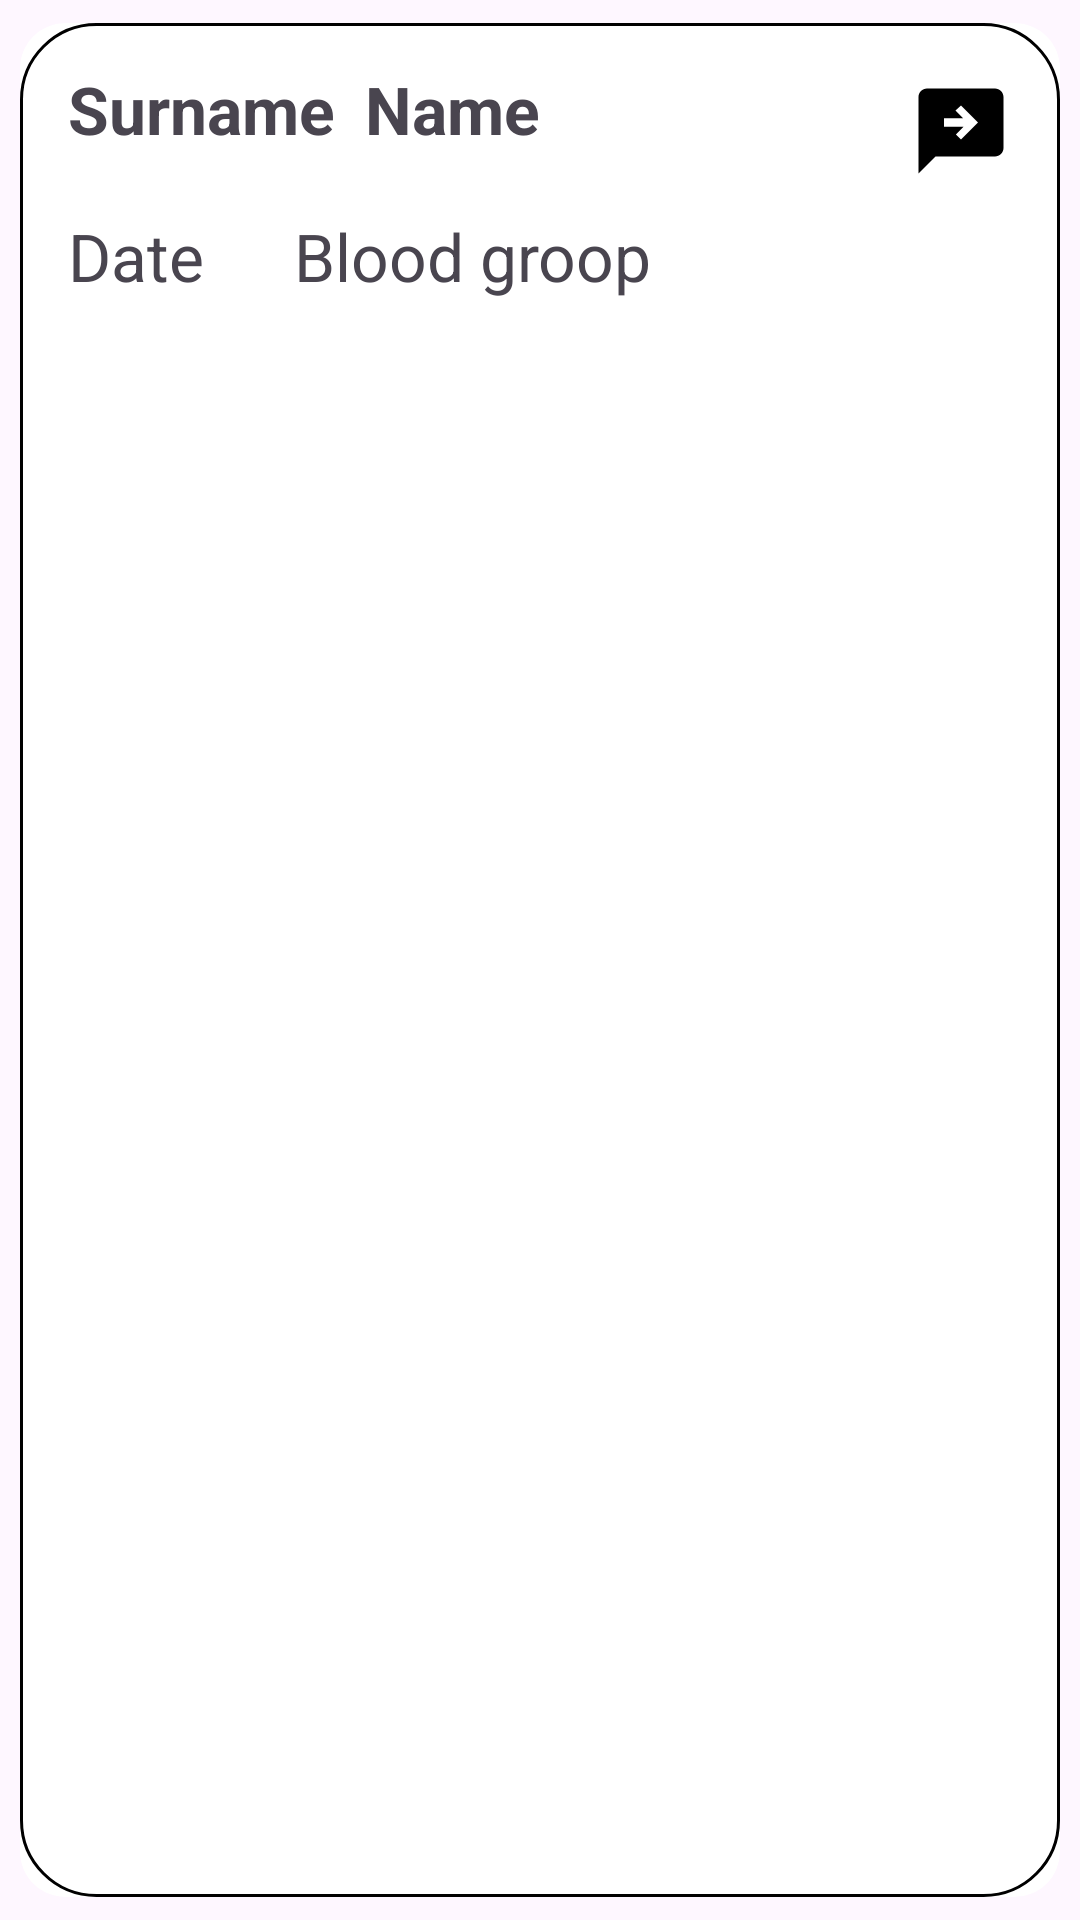

Where to tap for icons on this 1080w x 1920h app screen, as point (x, y):
message: point (961, 131)
